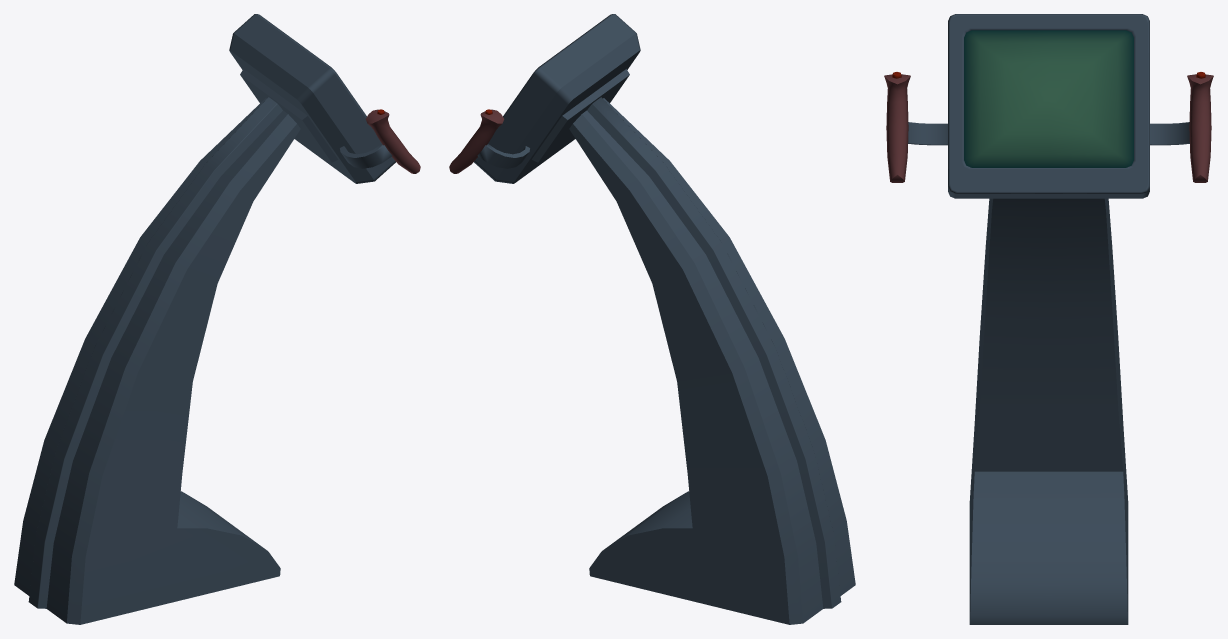
Rendered from Pilot Console.fbx.
The picture shows the model from 3 angles, left to right: view 1: azimuth 30°, elevation 25°; view 2: azimuth 150°, elevation 25°; view 3: azimuth 270°, elevation 25°; orthographic projection. The views are drawn at different scales.
Parts seen in each view (by area): view 1: Pilot Console; view 2: Pilot Console; view 3: Pilot Console.
Boxes of the visible parts, x1=… form: Pilot Console: x1=14, y1=14, x2=420, y2=624; Pilot Console: x1=449, y1=14, x2=855, y2=624; Pilot Console: x1=884, y1=14, x2=1213, y2=624.
Bounding box in the file's own units: 149 × 219 × 103.
